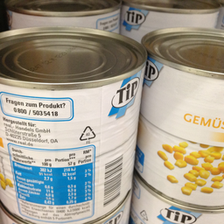corn: (1, 27, 148, 224), (134, 26, 224, 206)
